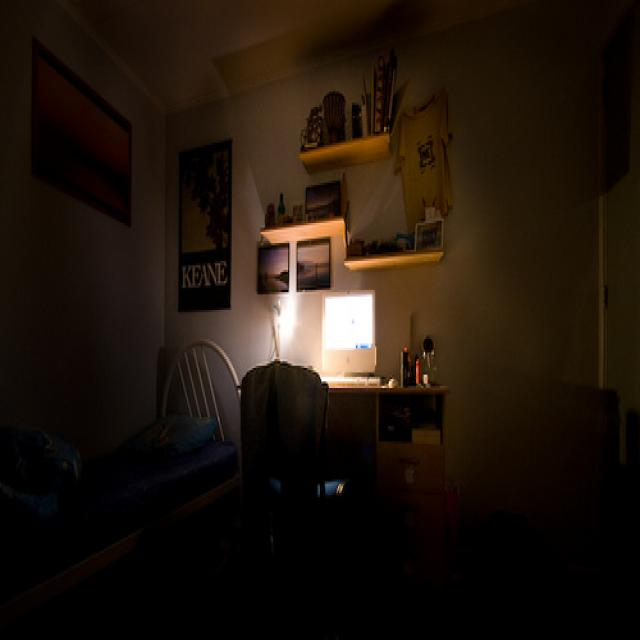Table: (251, 351, 480, 574)
chair: (238, 352, 331, 612)
